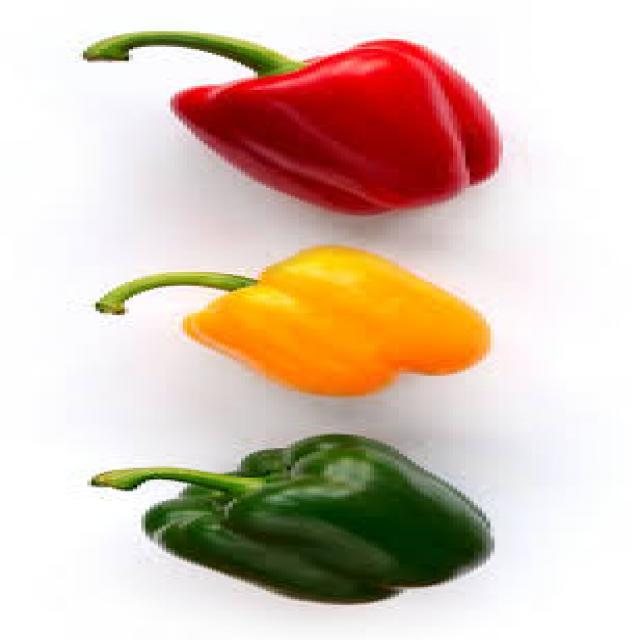Pepper: (84, 28, 508, 216), (90, 429, 502, 606), (90, 241, 493, 401)
